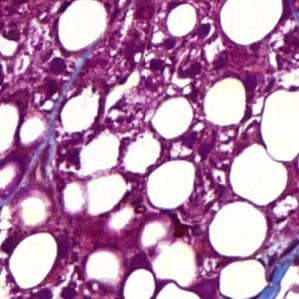steatosis: (207, 199, 267, 258), (221, 0, 282, 51), (9, 230, 56, 289), (166, 3, 196, 41)
